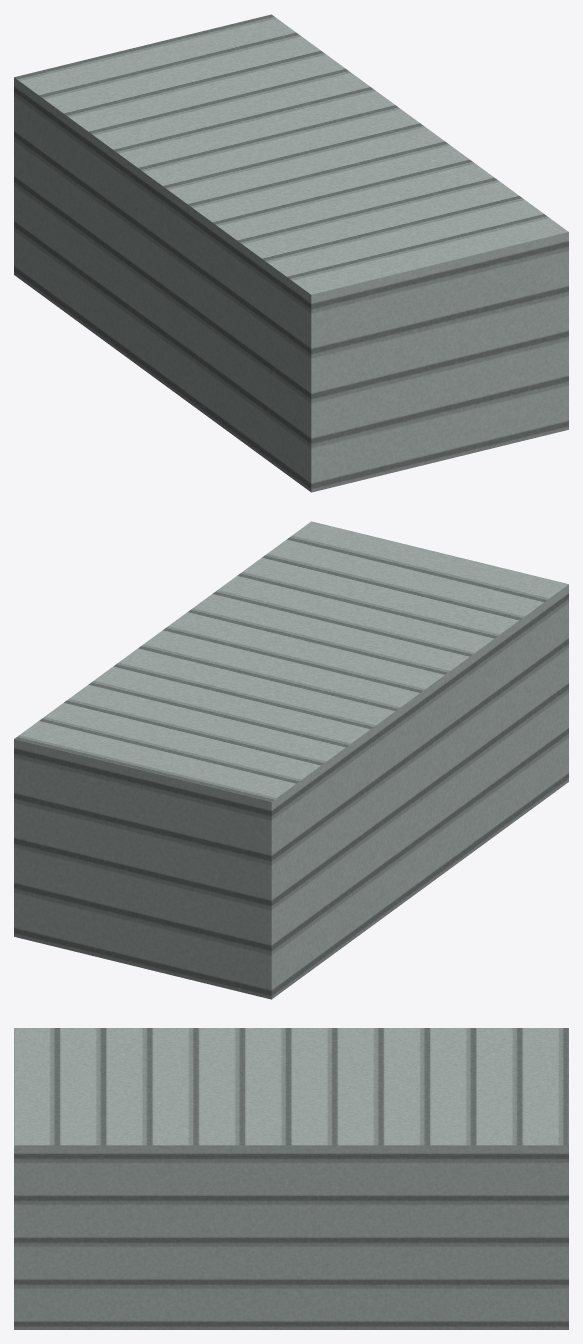
File: clawfoot_tub.glb
3 views of the same model, one above another, from view 1: azimuth 30°, elevation 25°; view 2: azimuth 150°, elevation 25°; view 3: azimuth 270°, elevation 25° (orthographic). The views are drawn at different scales.
Visible parts, largest first — view 1: clawfoot_tub-col; view 2: clawfoot_tub-col; view 3: clawfoot_tub-col.
Part boxes in pixels (x1,y1,x2,y2): clawfoot_tub-col: (14, 14, 568, 492); clawfoot_tub-col: (14, 521, 568, 999); clawfoot_tub-col: (14, 1028, 568, 1329).
Size of the model in its own units: 0.75 by 0.55 by 1.5.
1 material, 1 textured.
